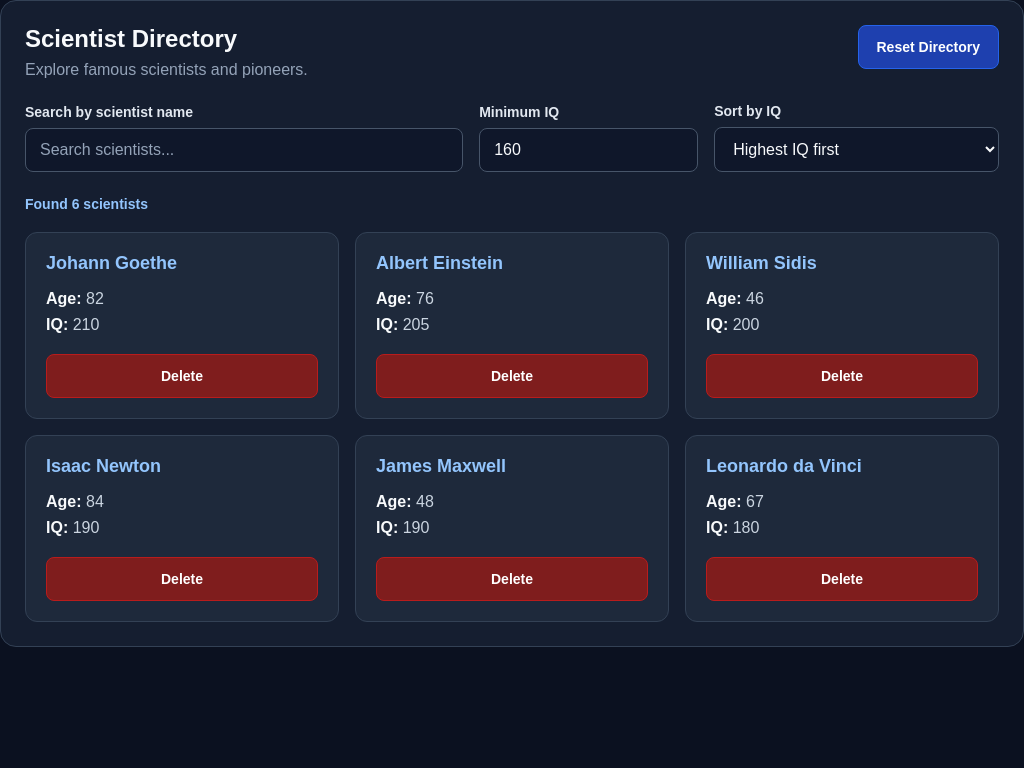
ScientistDirectory › filters scientists by minimum IQ
Replace the text in the number field labelled "Minimum IQ" with "200": (589, 150) x1=479 y1=128 x2=698 y2=172
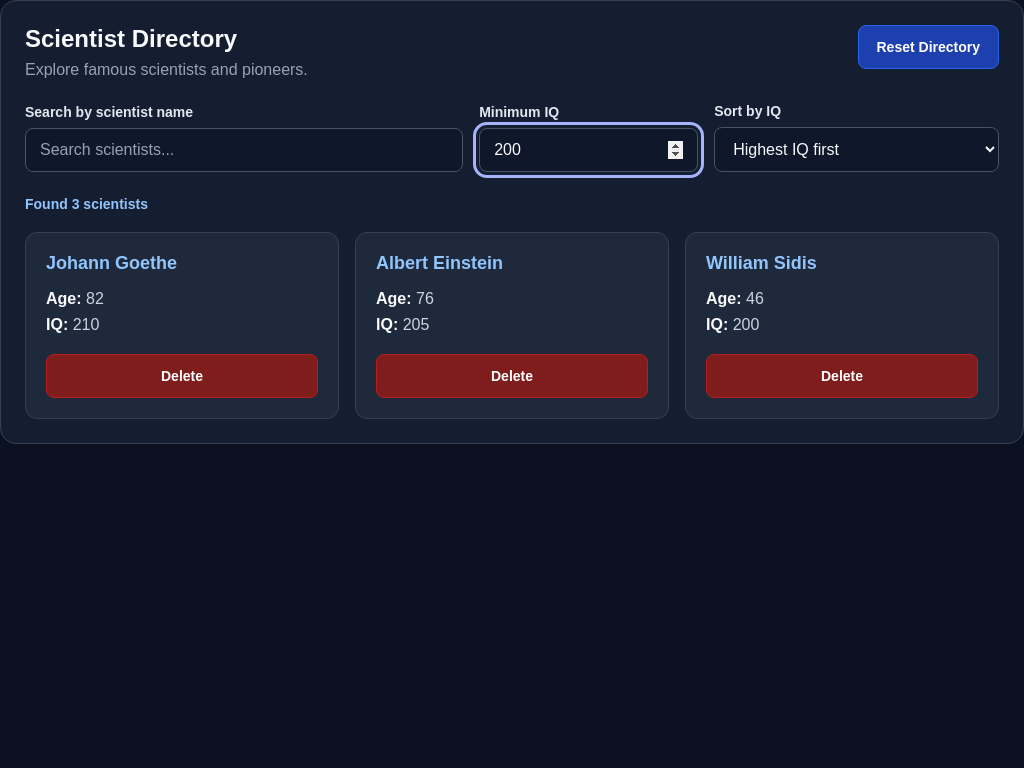
Expected: the message reads "Found 3 scientists", x1=25 y1=196 x2=148 y2=212
